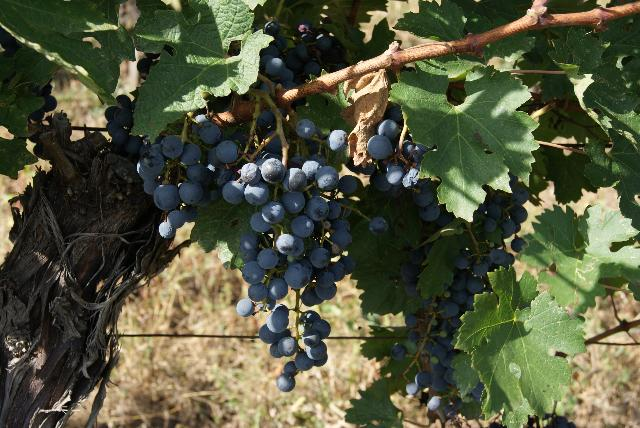grapes: (198, 159, 358, 391), (390, 241, 515, 396), (139, 121, 238, 210), (366, 111, 440, 221), (479, 178, 529, 252)
